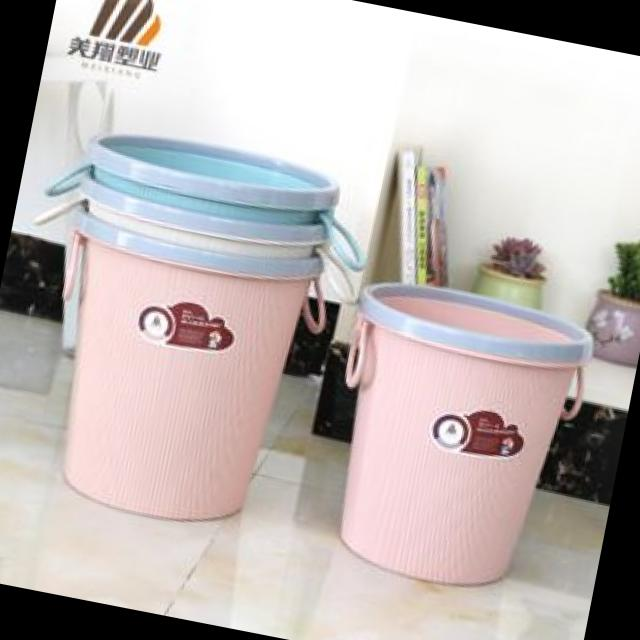dustbin: (16, 204, 330, 546)
